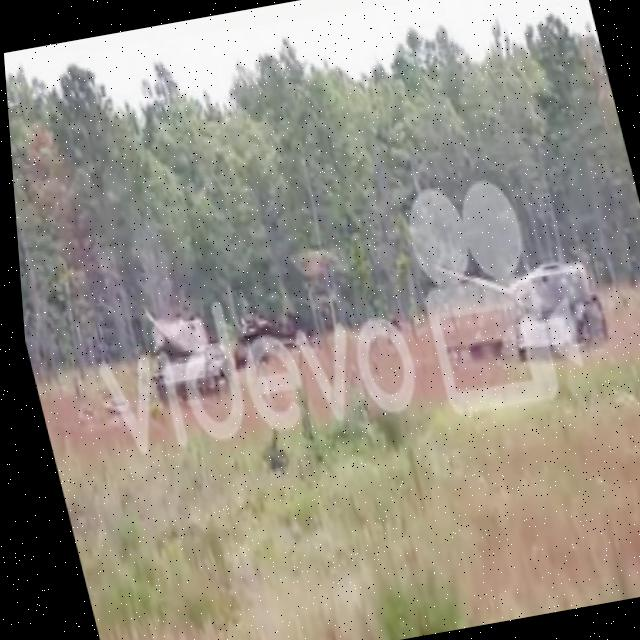rocket: (175, 300, 335, 382)
